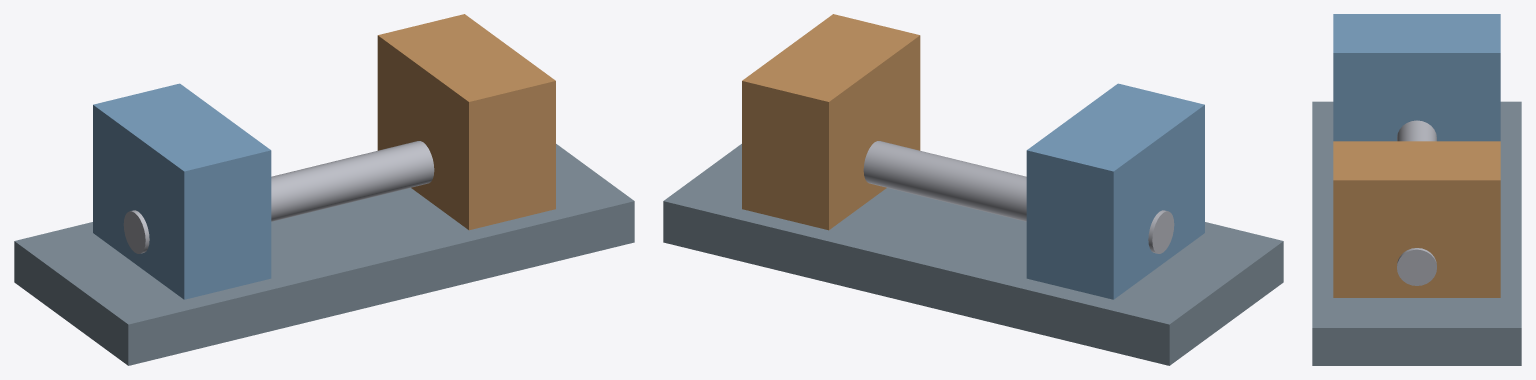
The model's file is bench-vise.glb.
The picture shows the model from 3 angles, left to right: view 1: azimuth 30°, elevation 25°; view 2: azimuth 150°, elevation 25°; view 3: azimuth 270°, elevation 25°; orthographic projection. The views are drawn at different scales.
Visible parts, largest first — view 1: Base, Fixed jaw, Sliding jaw, Lead screw; view 2: Base, Fixed jaw, Sliding jaw, Lead screw; view 3: Sliding jaw, Base, Fixed jaw, Lead screw.
Boxes of the visible parts, x1,y1,x2,y2 form: Base: [14, 144, 634, 365]; Fixed jaw: [93, 83, 271, 299]; Sliding jaw: [377, 14, 555, 230]; Lead screw: [123, 141, 434, 253]; Base: [663, 144, 1283, 365]; Fixed jaw: [1026, 83, 1204, 299]; Sliding jaw: [742, 14, 920, 230]; Lead screw: [863, 141, 1174, 253]; Sliding jaw: [1333, 141, 1500, 297]; Base: [1312, 101, 1521, 365]; Fixed jaw: [1333, 14, 1500, 141]; Lead screw: [1397, 120, 1436, 285].
Size of the model in its own units: 6.4 by 2.05 by 2.5.
